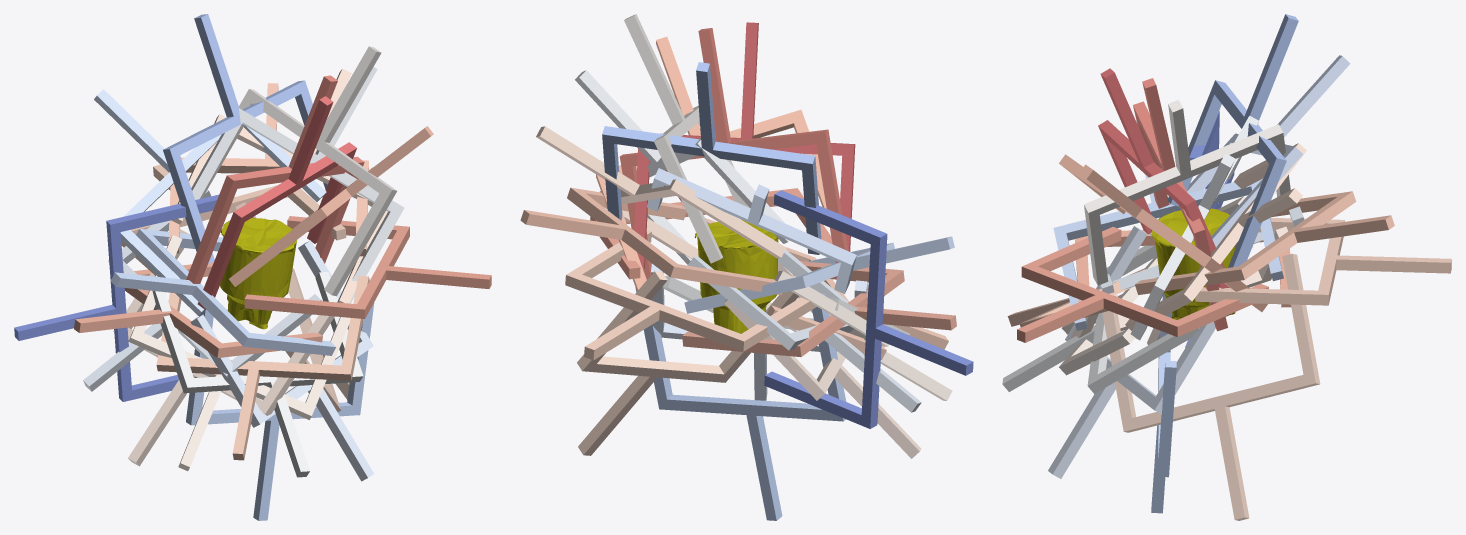
File: kit_obj_25.glb
The picture shows the model from 3 angles, left to right: view 1: azimuth 30°, elevation 25°; view 2: azimuth 150°, elevation 25°; view 3: azimuth 270°, elevation 25°; orthographic projection. The views are drawn at different scales.
Visible parts, largest first — view 1: kit_obj_25.obj_grasp_9, kit_obj_25.obj_grasp_1, kit_obj_25.obj_grasp_0, kit_obj_25.obj_grasp_19, kit_obj_25.obj_grasp_3, kit_obj_25.obj_grasp_21, kit_obj_25.obj, kit_obj_25.obj_grasp_15, kit_obj_25.obj_grasp_4, kit_obj_25.obj_grasp_8, kit_obj_25.obj_grasp_20, kit_obj_25.obj_grasp_7 (+11 smaller); view 2: kit_obj_25.obj_grasp_0, kit_obj_25.obj_grasp_14, kit_obj_25.obj_grasp_1, kit_obj_25.obj_grasp_2, kit_obj_25.obj_grasp_13, kit_obj_25.obj_grasp_16, kit_obj_25.obj_grasp_12, kit_obj_25.obj_grasp_20, kit_obj_25.obj_grasp_18, kit_obj_25.obj_grasp_6, kit_obj_25.obj_grasp_21, kit_obj_25.obj_grasp_9 (+11 smaller); view 3: kit_obj_25.obj_grasp_13, kit_obj_25.obj_grasp_19, kit_obj_25.obj_grasp_1, kit_obj_25.obj_grasp_9, kit_obj_25.obj_grasp_16, kit_obj_25.obj_grasp_14, kit_obj_25.obj_grasp_5, kit_obj_25.obj_grasp_8, kit_obj_25.obj_grasp_21, kit_obj_25.obj_grasp_12, kit_obj_25.obj_grasp_3, kit_obj_25.obj_grasp_20 (+11 smaller).
Boxes of the visible parts, x1=… form: kit_obj_25.obj_grasp_9: x1=200, y1=46, x2=396, y2=296; kit_obj_25.obj_grasp_1: x1=163, y1=14, x2=327, y2=264; kit_obj_25.obj_grasp_0: x1=14, y1=194, x2=218, y2=401; kit_obj_25.obj_grasp_19: x1=244, y1=216, x2=491, y2=318; kit_obj_25.obj_grasp_3: x1=110, y1=228, x2=336, y2=355; kit_obj_25.obj_grasp_21: x1=197, y1=96, x2=356, y2=309; kit_obj_25.obj: x1=220, y1=218, x2=297, y2=329; kit_obj_25.obj_grasp_15: x1=156, y1=267, x2=369, y2=460; kit_obj_25.obj_grasp_4: x1=94, y1=89, x2=326, y2=315; kit_obj_25.obj_grasp_8: x1=152, y1=272, x2=363, y2=477; kit_obj_25.obj_grasp_20: x1=186, y1=75, x2=364, y2=283; kit_obj_25.obj_grasp_7: x1=182, y1=67, x2=404, y2=303; kit_obj_25.obj_grasp_0: x1=764, y1=190, x2=973, y2=428; kit_obj_25.obj_grasp_14: x1=565, y1=230, x2=816, y2=360; kit_obj_25.obj_grasp_1: x1=602, y1=62, x2=821, y2=254; kit_obj_25.obj_grasp_2: x1=635, y1=287, x2=846, y2=520; kit_obj_25.obj_grasp_13: x1=577, y1=271, x2=798, y2=455; kit_obj_25.obj_grasp_16: x1=520, y1=187, x2=782, y2=295; kit_obj_25.obj_grasp_12: x1=536, y1=126, x2=786, y2=258; kit_obj_25.obj_grasp_20: x1=619, y1=28, x2=848, y2=279; kit_obj_25.obj_grasp_18: x1=682, y1=261, x2=956, y2=356; kit_obj_25.obj_grasp_6: x1=687, y1=250, x2=921, y2=412; kit_obj_25.obj_grasp_21: x1=634, y1=22, x2=855, y2=279; kit_obj_25.obj_grasp_9: x1=624, y1=14, x2=749, y2=263; kit_obj_25.obj_grasp_13: x1=1102, y1=253, x2=1320, y2=520; kit_obj_25.obj_grasp_19: x1=1017, y1=227, x2=1268, y2=342; kit_obj_25.obj_grasp_1: x1=1167, y1=14, x2=1298, y2=267; kit_obj_25.obj_grasp_9: x1=1084, y1=100, x2=1290, y2=285; kit_obj_25.obj_grasp_16: x1=1135, y1=191, x2=1394, y2=294; kit_obj_25.obj_grasp_14: x1=1195, y1=217, x2=1451, y2=305; kit_obj_25.obj_grasp_5: x1=1048, y1=226, x2=1215, y2=478; kit_obj_25.obj_grasp_8: x1=1002, y1=245, x2=1199, y2=393; kit_obj_25.obj_grasp_21: x1=1098, y1=68, x2=1229, y2=288; kit_obj_25.obj_grasp_12: x1=1125, y1=143, x2=1306, y2=330; kit_obj_25.obj_grasp_3: x1=1053, y1=120, x2=1283, y2=330; kit_obj_25.obj_grasp_20: x1=1133, y1=78, x2=1227, y2=331.
Size of the model in its own units: 0.2502 by 0.2874 by 0.2353.
